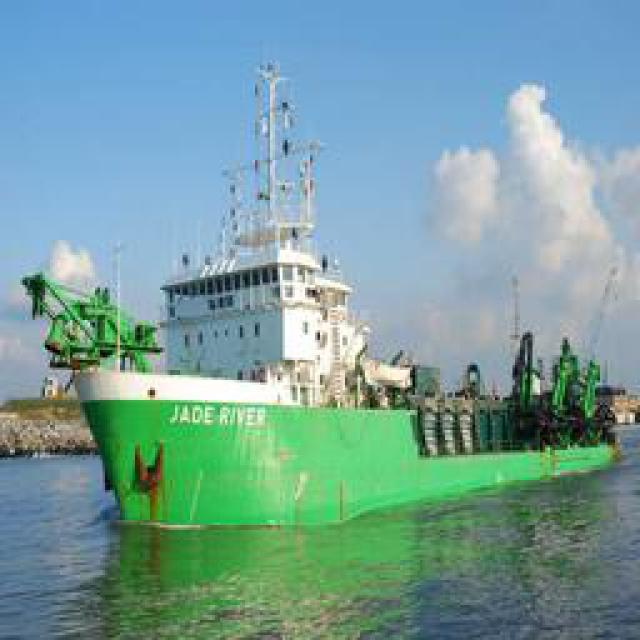Ship: (50, 44, 629, 540)
